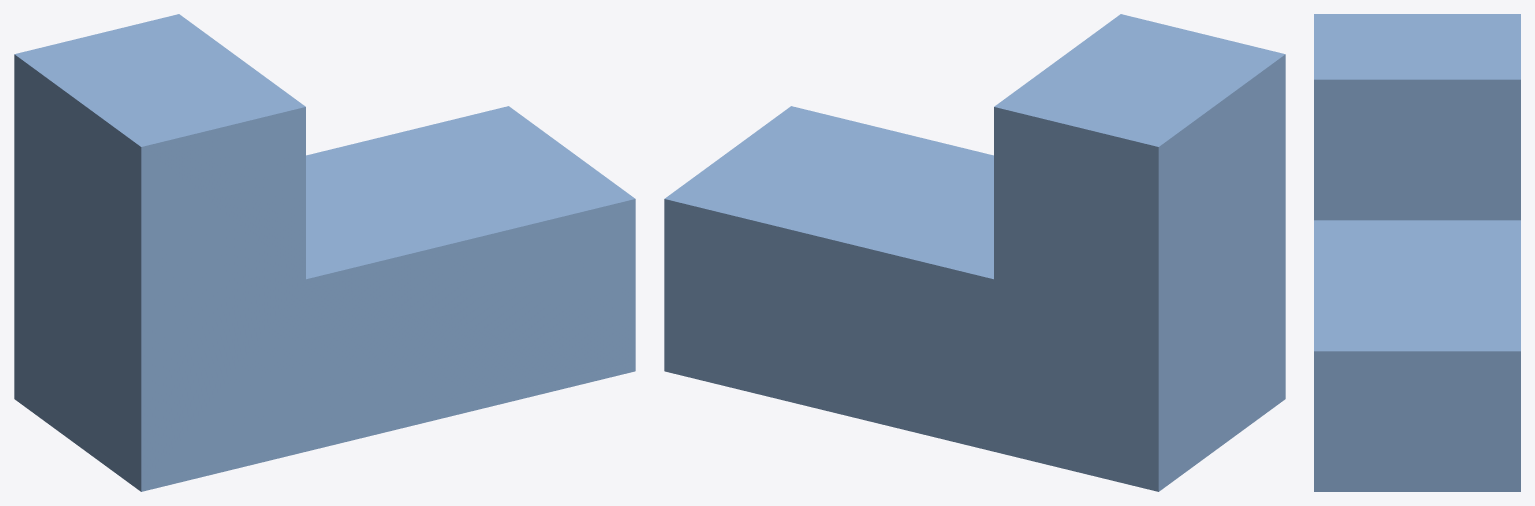
The model's file is lblock.glb.
3 views of the same model, side by side, from view 1: azimuth 30°, elevation 25°; view 2: azimuth 150°, elevation 25°; view 3: azimuth 270°, elevation 25° (orthographic). The views are drawn at different scales.
Visible parts, largest first — view 1: lblock; view 2: lblock; view 3: lblock.
Part boxes in pixels (x1=…): lblock: x1=14, y1=14, x2=635, y2=491; lblock: x1=664, y1=14, x2=1285, y2=491; lblock: x1=1314, y1=14, x2=1520, y2=491.
Bounding box in the file's own units: 90 × 60 × 40.
